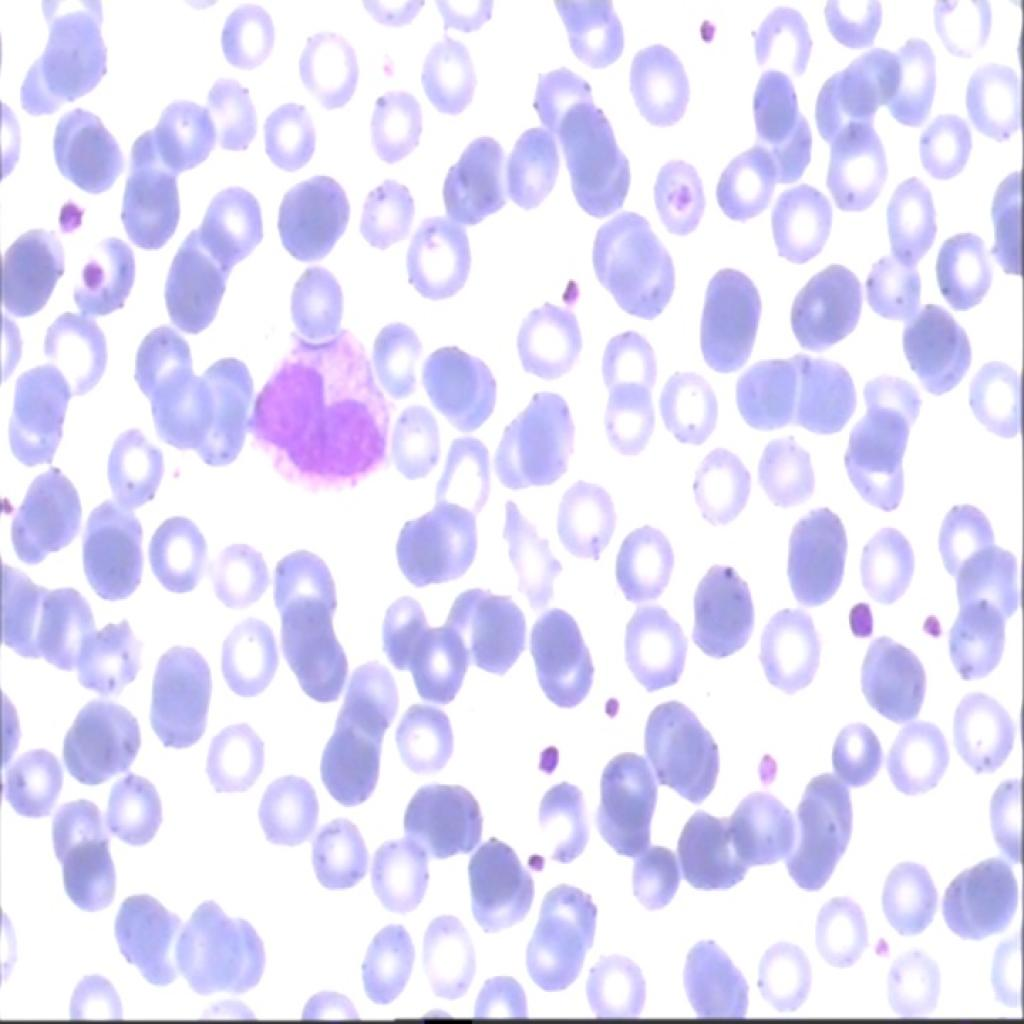Monosit: (238, 324, 396, 508)
Platelet: (48, 186, 90, 236), (836, 590, 875, 642), (71, 249, 112, 297), (747, 738, 782, 786), (587, 688, 626, 729), (528, 729, 562, 775), (690, 9, 718, 64), (552, 265, 583, 311), (914, 599, 938, 653), (521, 843, 546, 889), (0, 480, 21, 526), (866, 924, 889, 960)
